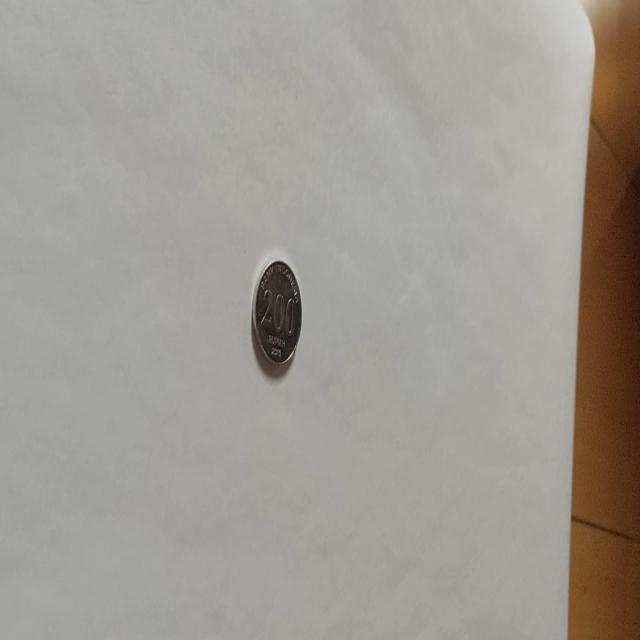dua ratus rupiah: (250, 257, 302, 367)
